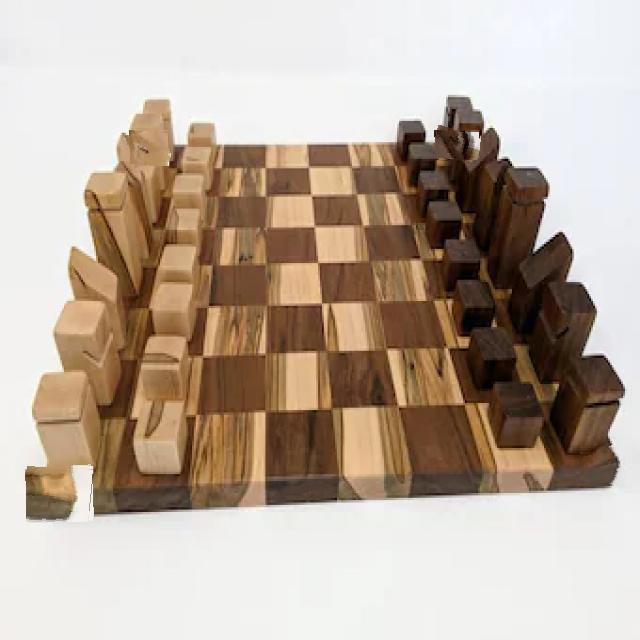chess-table-corners: (26, 465, 94, 522), (582, 446, 625, 485), (127, 128, 170, 166), (433, 128, 480, 160)
